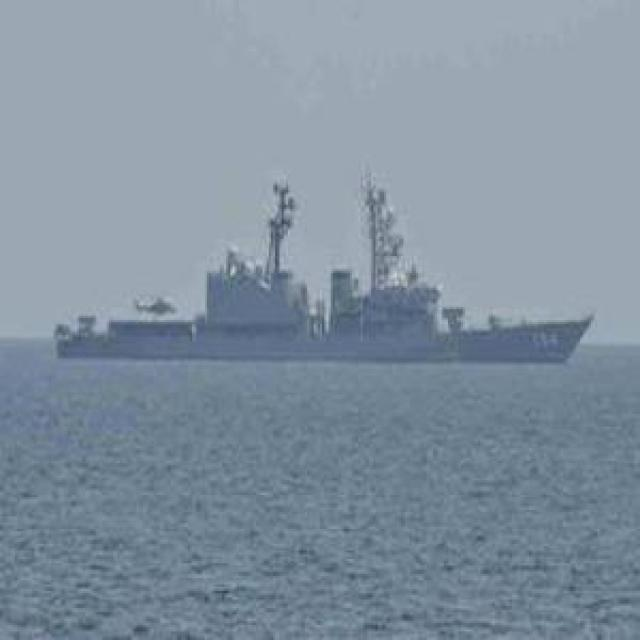navalvessels: (48, 175, 595, 367)
